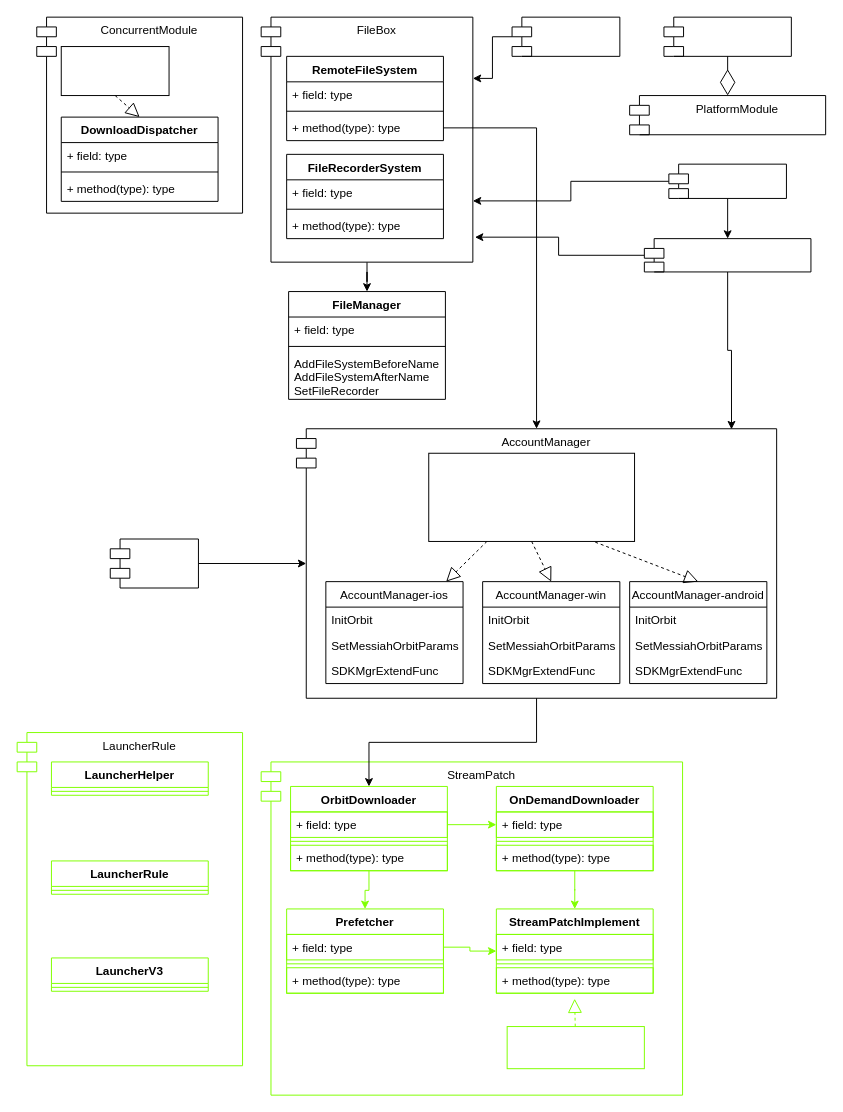
The diagram is 843 pixels wide and 1112 high, and some of its shapes have lost their labels. Each missing label, with the centre of its shape:
"DownloadCommon" belongs at (727,255).
"FastCSV" belongs at (565,36).
"FlatterBuffer" belongs at (727,180).
"NetworkMonitor" belongs at (727,36).
"Orbiter" belongs at (153,563).
"«interface» AccountManager" belongs at (531,496).
"«interface» CustomDispatcher" belongs at (114,71).
"«interface» StreamPatchInterface" belongs at (575,1047).
